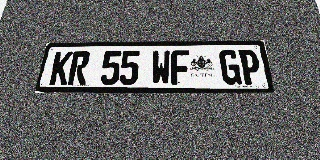5: (100, 51, 122, 85), (119, 51, 140, 85)
F: (171, 50, 190, 85)
G: (219, 50, 242, 84)
K: (49, 52, 73, 85)
P: (238, 49, 262, 84)
R: (67, 51, 90, 85)
W: (151, 50, 170, 85)
